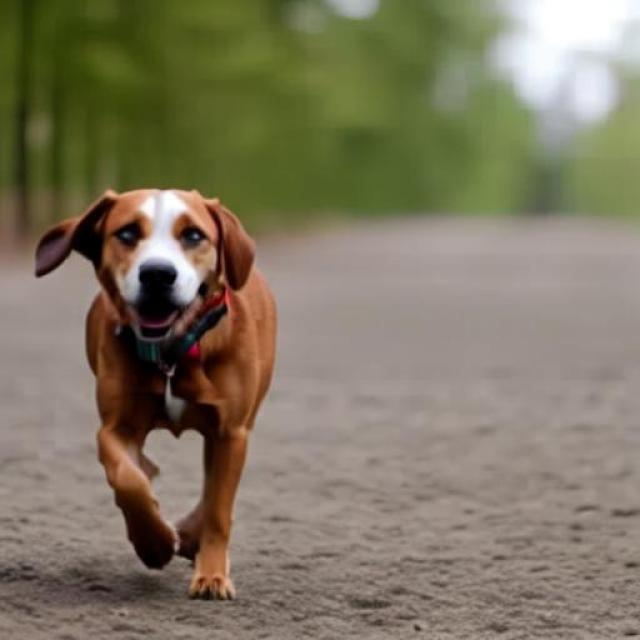Dog: (36, 188, 276, 600)
